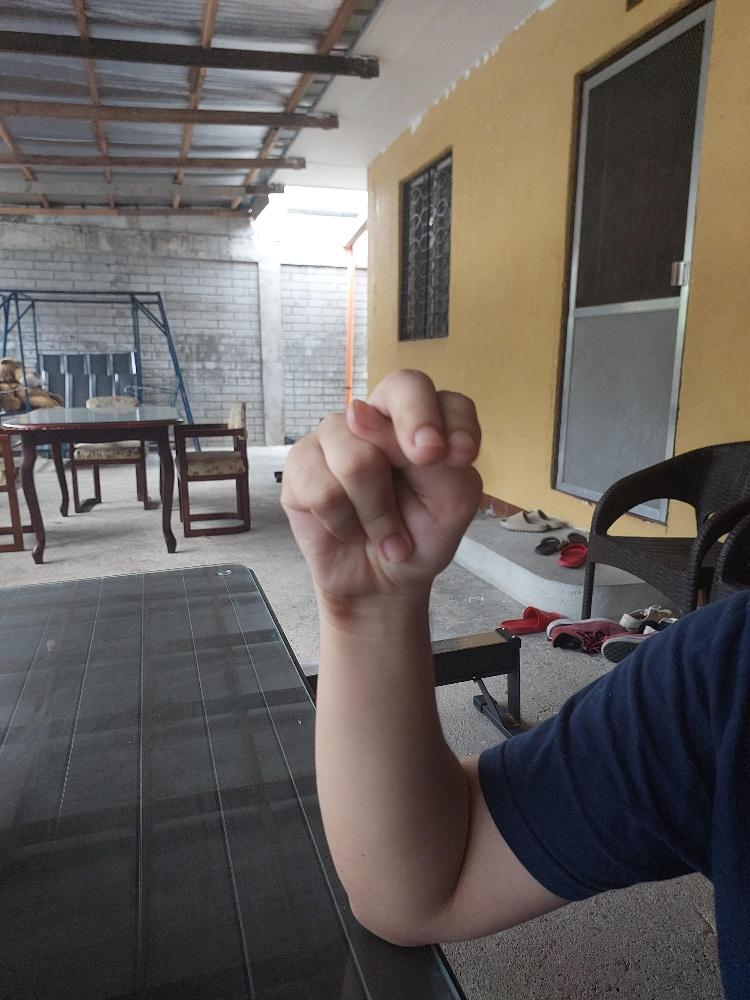n: (277, 362, 486, 602)
